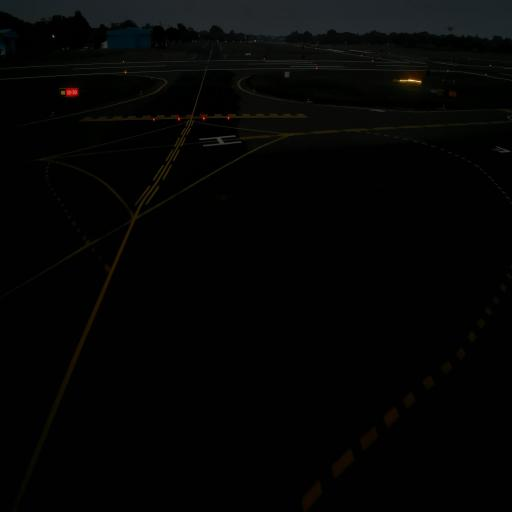on: (176, 114, 182, 124), (225, 115, 231, 122), (201, 114, 206, 122), (152, 116, 156, 123)
